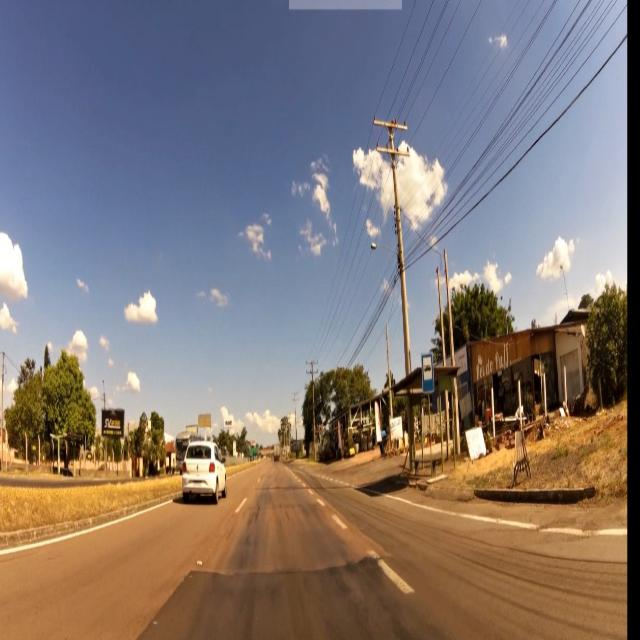S-14: (421, 352, 435, 396)
